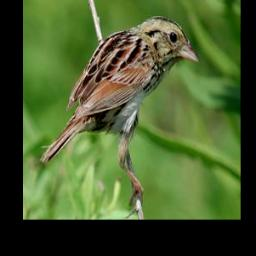Sparrow: (39, 14, 200, 206)
